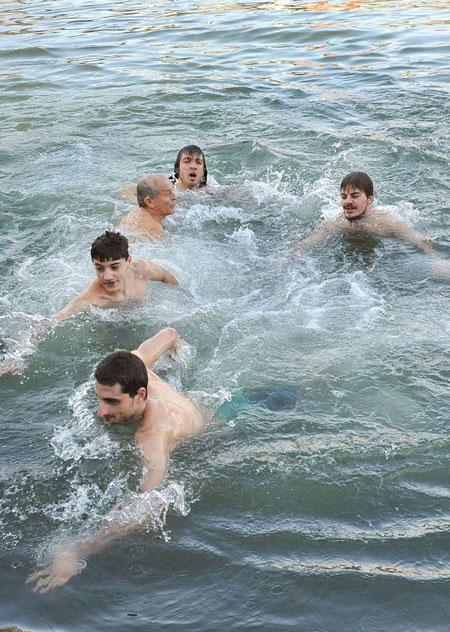swimmer: (35, 317, 216, 594), (287, 164, 427, 256), (49, 229, 180, 307), (118, 170, 178, 230), (171, 138, 210, 190)
